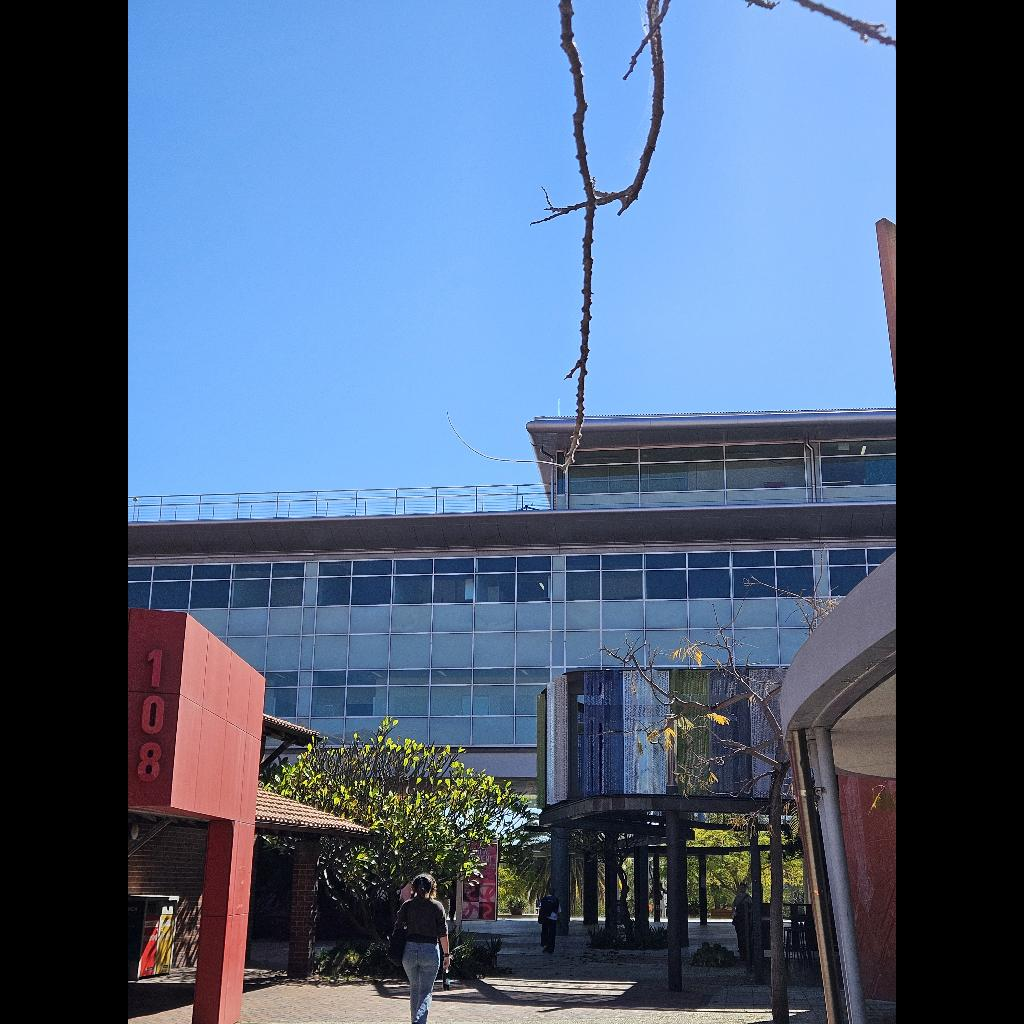BuildingCodes: (136, 648, 166, 784)
